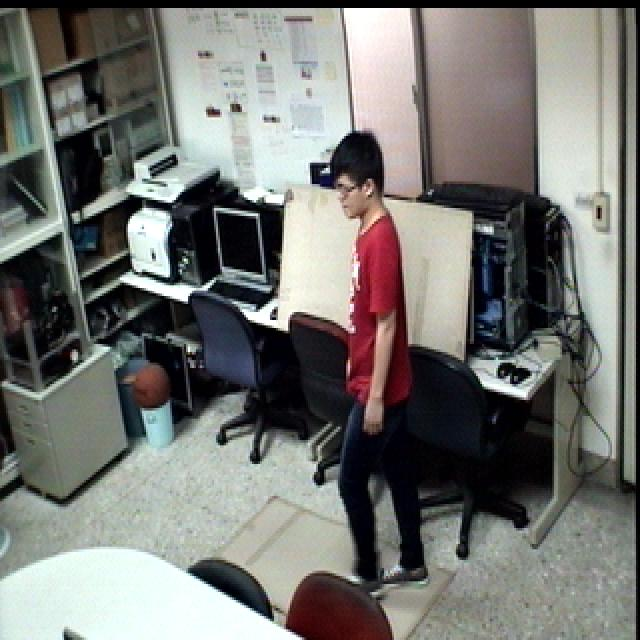stand: (313, 111, 432, 616)
